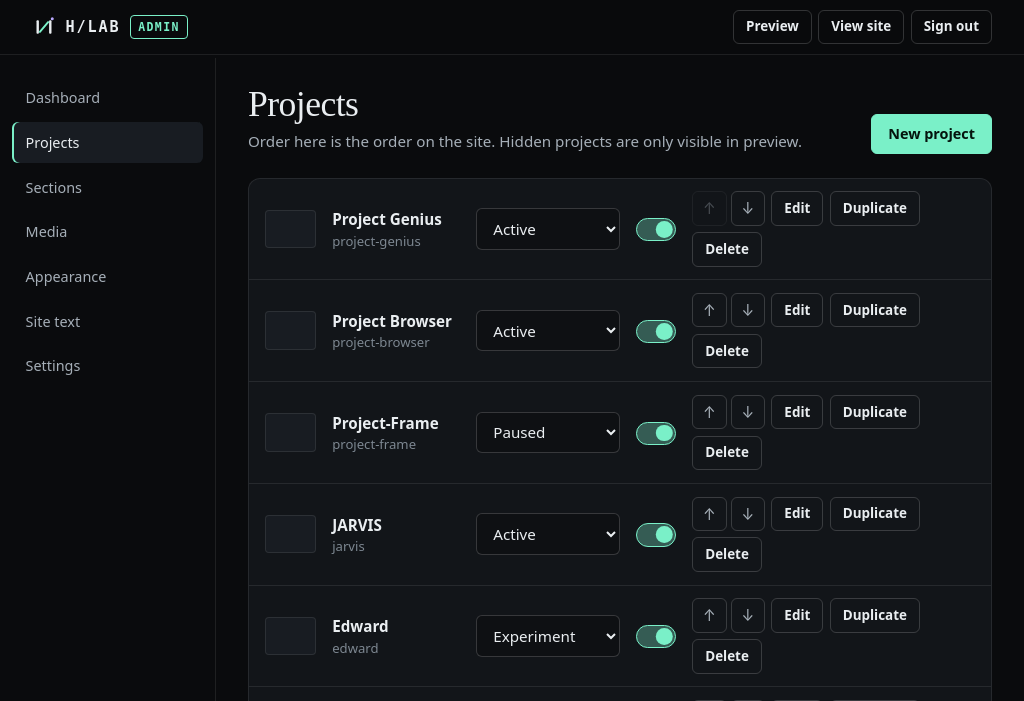
Test case: project manager list › toggles visibility and changes status
The width and height of the screenshot is (1024, 701).
Expected: the heading "Projects" is shown, [248,84,358,124]
Click the switch labelled "Show Project Genius on the site".
click(656, 230)  # box [636,218,676,241]
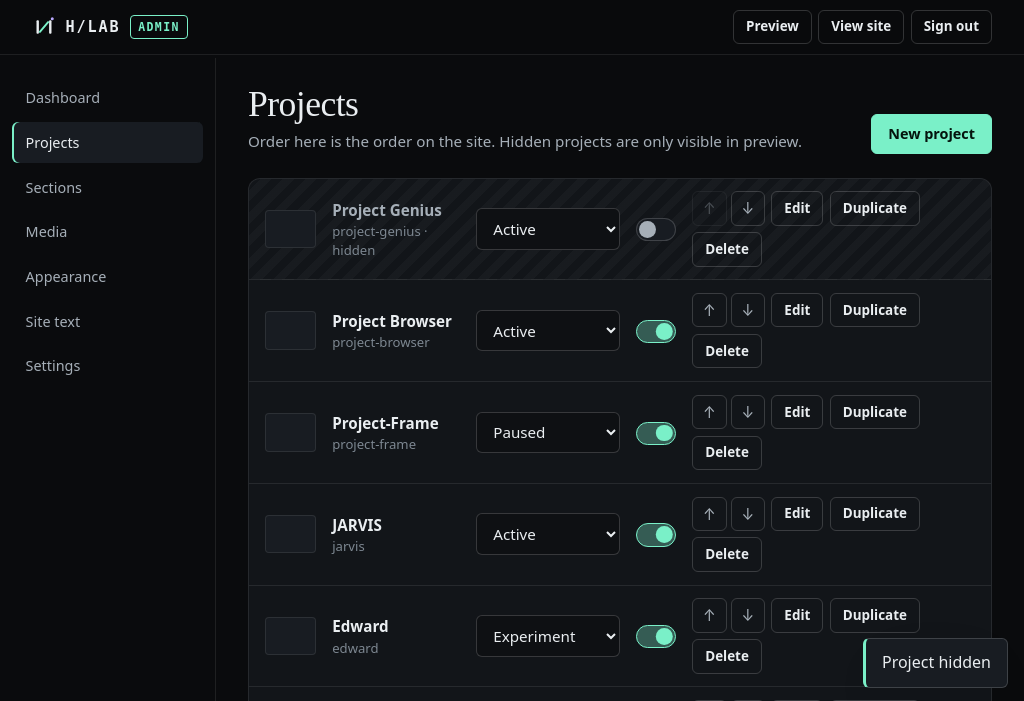
Now the text "Project hidden" is shown, box [863,638,1008,688]
Select "Completed" in the dropdown named "Status of JARVIS" next to "Show JARVIS on the site" at (548, 534), box [476,513,620,555]
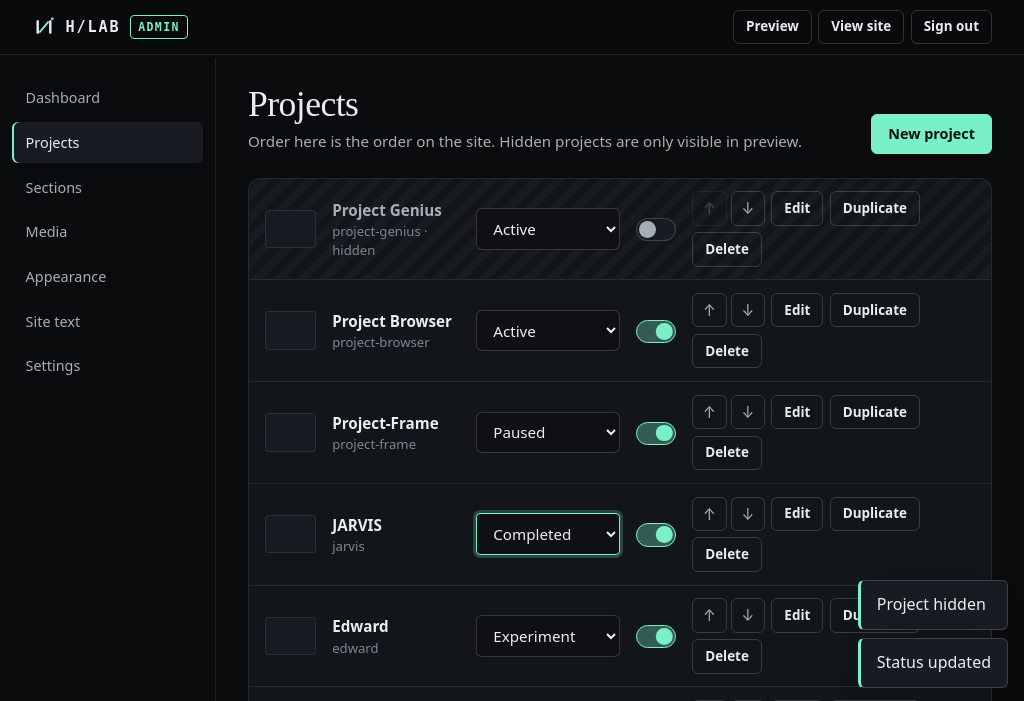
Now the text "Status updated" is shown, box [858,638,1008,688]
